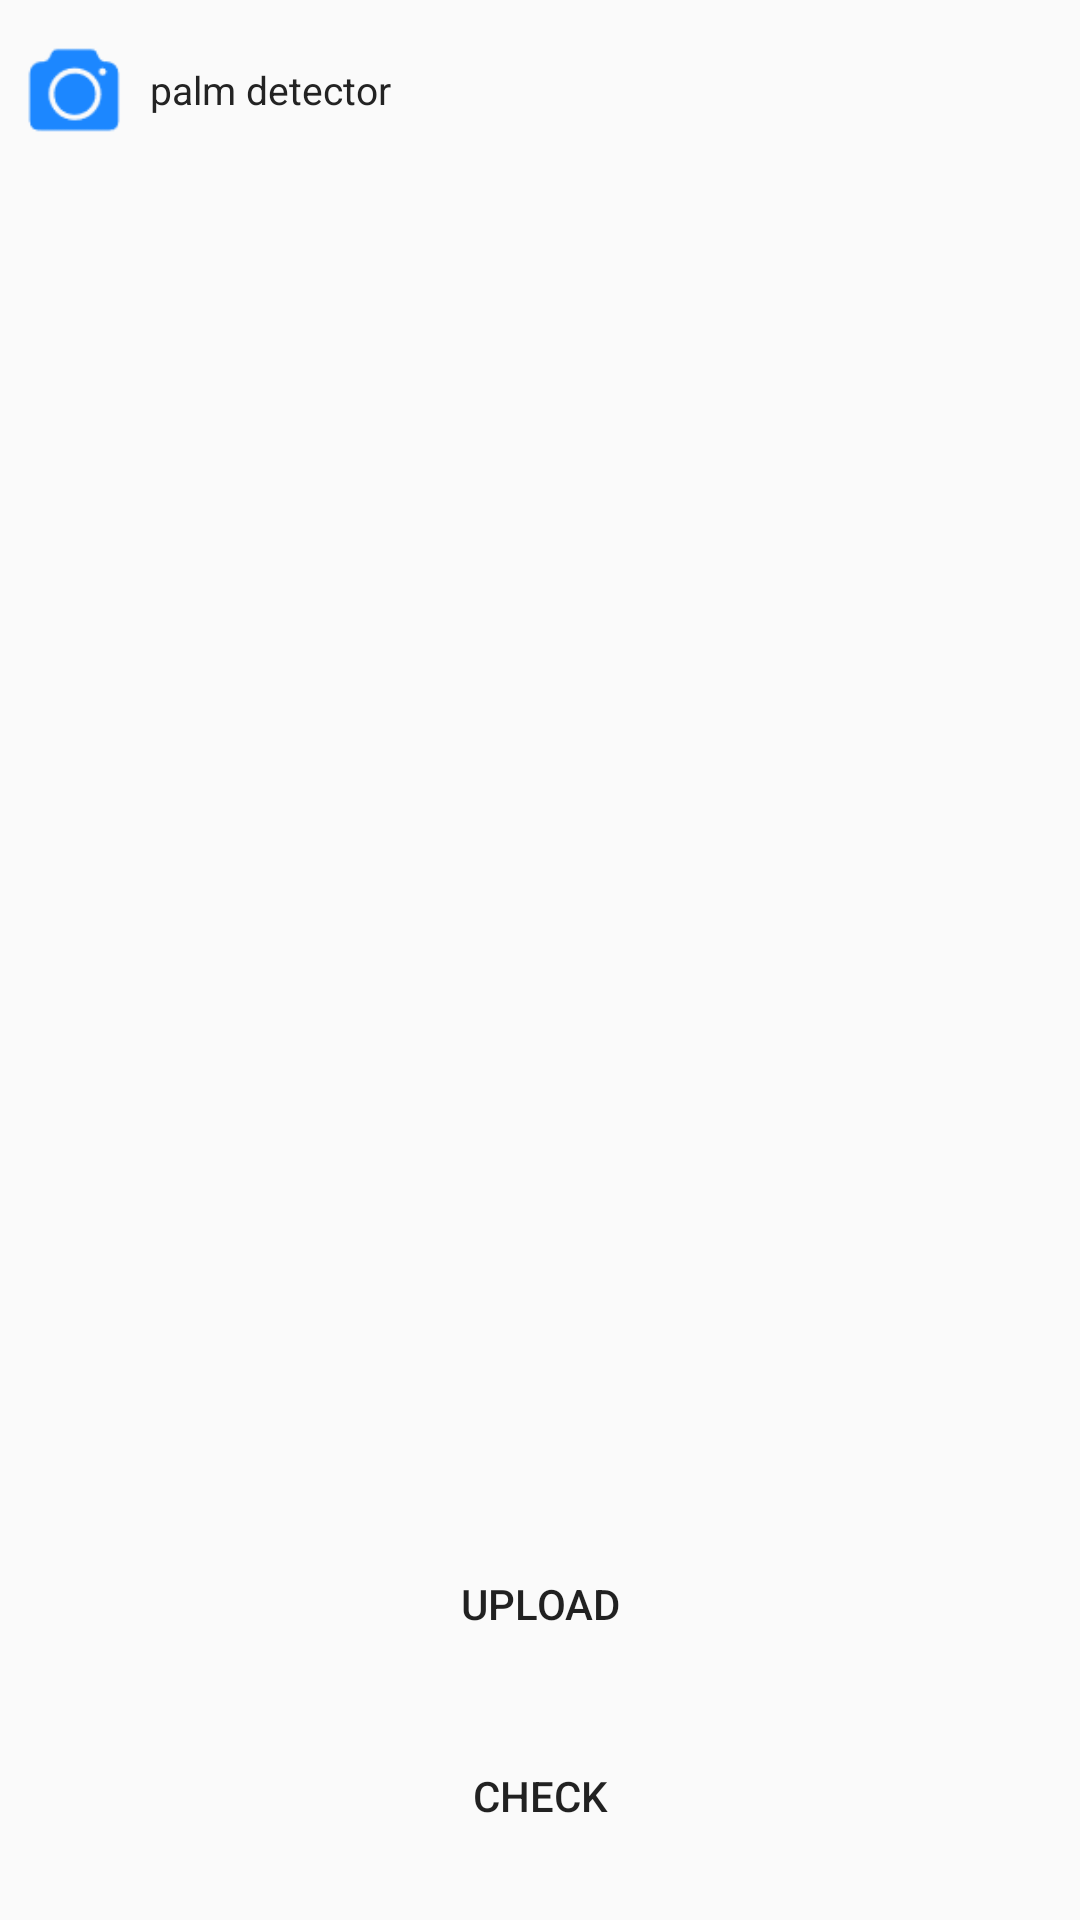

Named icons in this screenshot (1080 × 1920) and their centers, (x,y):
takephoto: (74,90)
